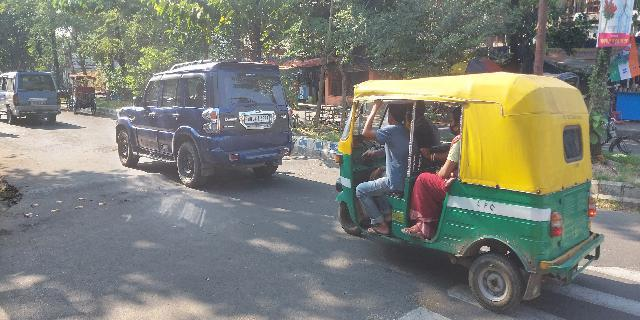Autorickshaw: (329, 69, 608, 313)
Car: (113, 59, 292, 193), (1, 68, 64, 129)
Rickshaw: (65, 72, 101, 116)
